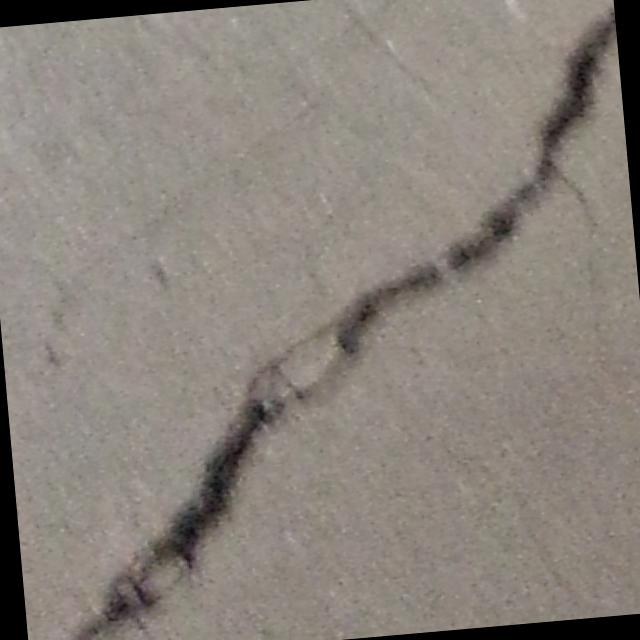crack: (36, 316, 402, 640), (322, 6, 636, 319)
